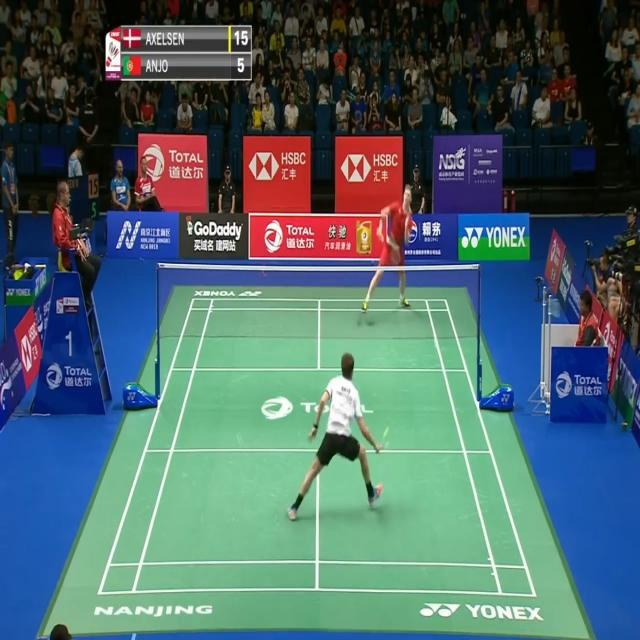Player1: (284, 351, 386, 525)
Player2: (358, 181, 416, 315)
